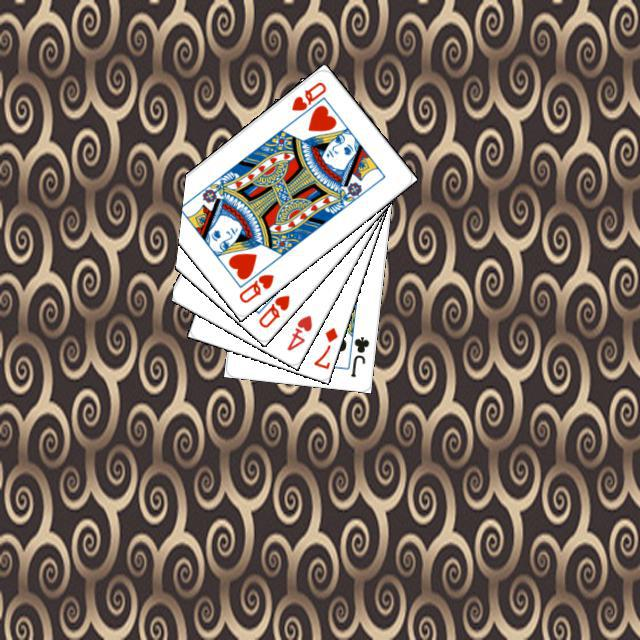4h: (282, 310, 314, 352)
7d: (309, 322, 340, 370)
Jc: (346, 332, 371, 379)
Qh: (286, 77, 328, 123), (234, 269, 276, 305), (254, 290, 291, 330)
